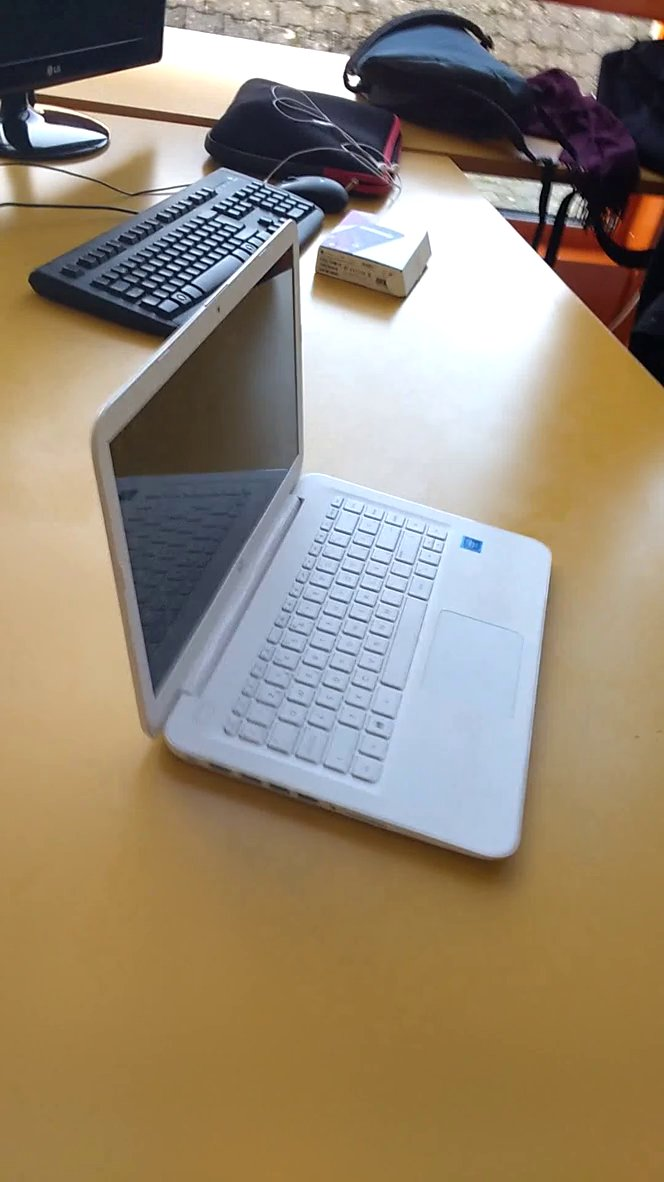bag: (335, 3, 563, 164)
laptop: (74, 208, 580, 903)
